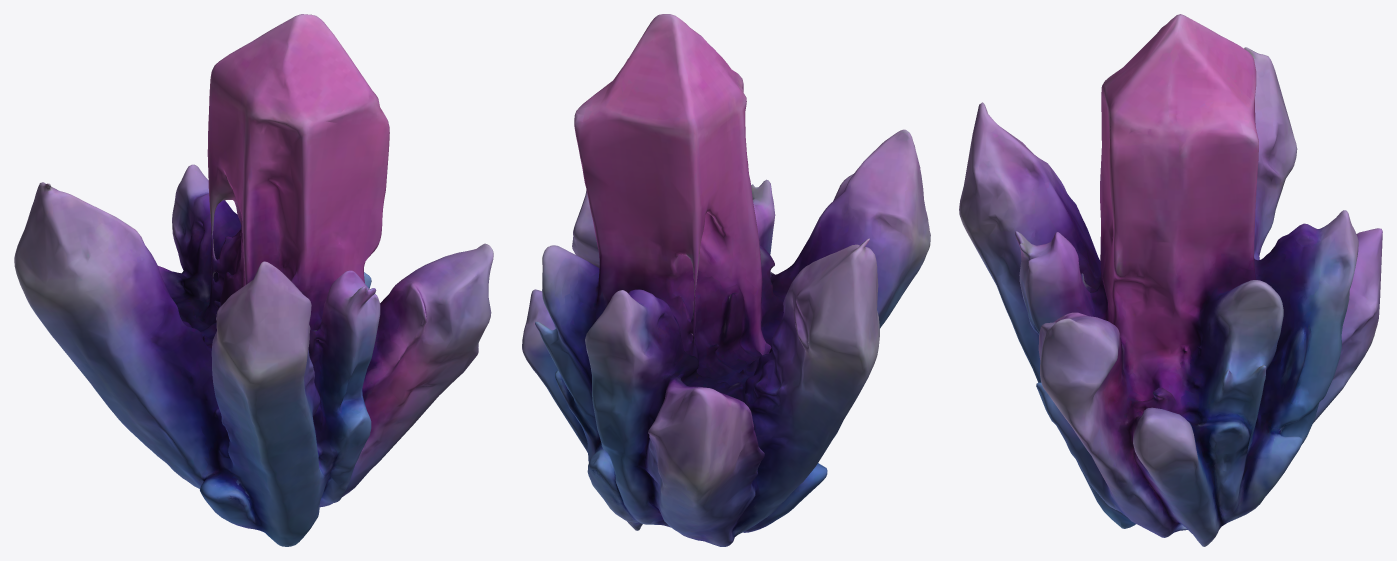
The model's file is crystal3.glb.
The picture shows the model from 3 angles, left to right: view 1: azimuth 30°, elevation 25°; view 2: azimuth 150°, elevation 25°; view 3: azimuth 270°, elevation 25°; orthographic projection. The views are drawn at different scales.
Visible parts, largest first — view 1: high_poly; view 2: high_poly; view 3: high_poly.
Part boxes in pixels (bbox=[...]): high_poly: bbox=[14, 14, 493, 546]; high_poly: bbox=[522, 14, 930, 546]; high_poly: bbox=[959, 14, 1382, 546].
Size of the model in its own units: 0.8018 by 1 by 0.7234.
1 material, 1 textured.
